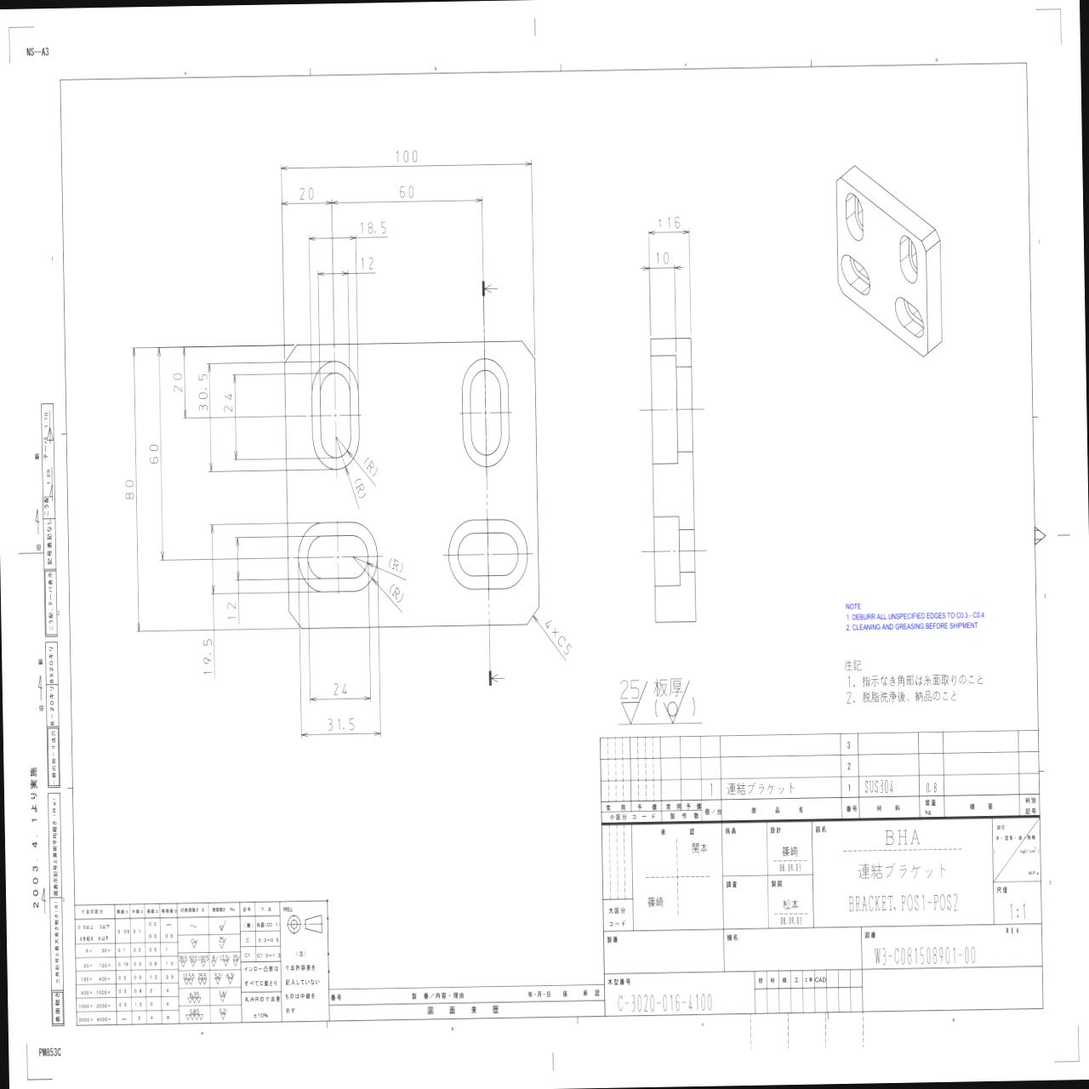basic_dimension: (198, 374, 208, 411), (202, 639, 212, 674), (328, 718, 354, 731), (361, 221, 386, 234), (396, 151, 417, 162), (223, 393, 233, 412), (173, 373, 182, 392), (125, 480, 134, 499), (361, 257, 374, 270), (334, 682, 347, 695), (399, 186, 413, 198), (300, 188, 314, 200), (150, 444, 158, 464), (227, 603, 237, 619), (656, 252, 669, 264)
dimension_chamfer_symbol: (557, 634, 572, 656)
dimension_radius_symbol: (354, 481, 366, 496), (365, 459, 376, 475), (391, 585, 402, 601), (391, 558, 401, 573)
dimension_thickness_symbol: (657, 216, 680, 229)
surface_finish_symbol: (620, 680, 648, 725)
